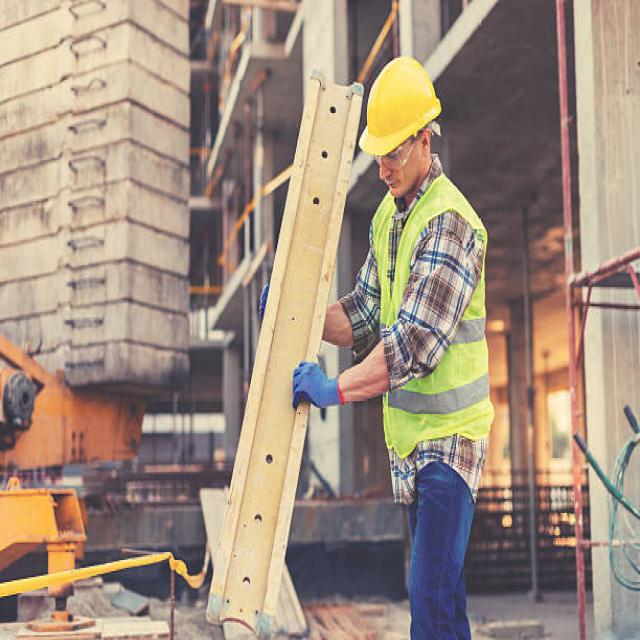gloves: (292, 364, 345, 406), (260, 282, 270, 322)
